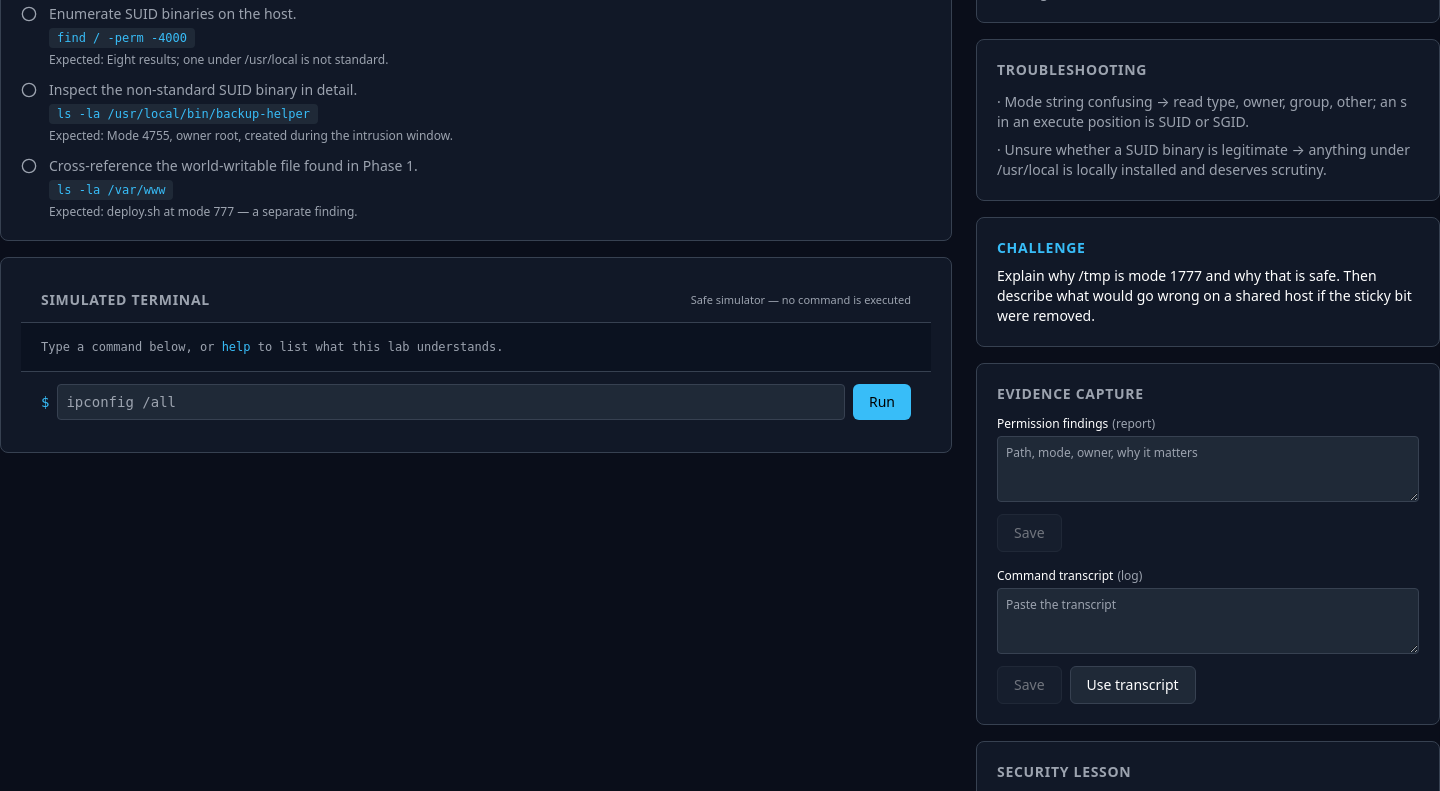
Scenario: Phase 9 labs and quizzes › surfaces the SUID binary in the permissions lab
The image size is (1440, 791).
(page scrolled)
In the field named "Simulated command input": coordinates (451, 402) [57,384,845,420], type "find / -perm -4000"
Then press Enter
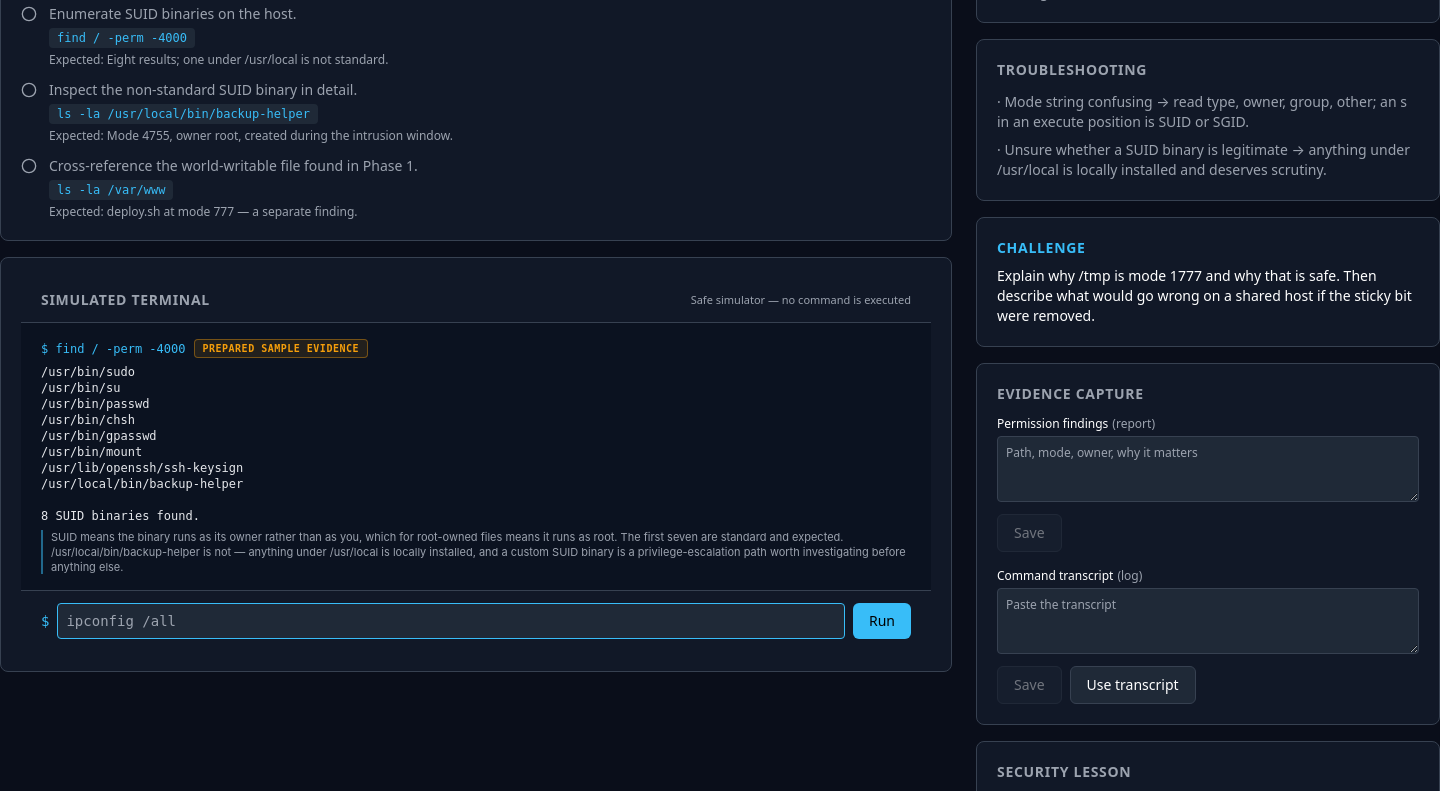
Expected: the text "8 SUID binaries found" is shown, [41,365,243,523]
